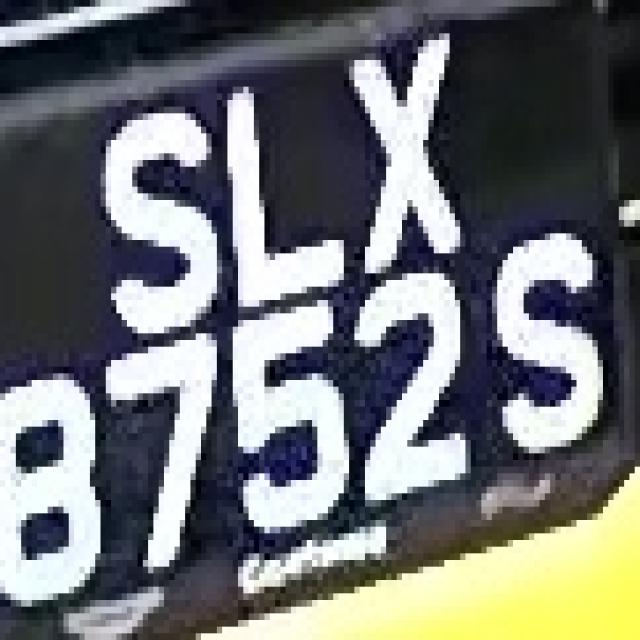2: (328, 247, 476, 533)
5: (196, 286, 365, 546)
7: (95, 340, 233, 573)
8: (0, 4, 1, 6)
L: (212, 60, 349, 307)
S: (471, 214, 619, 474), (90, 86, 227, 326)
X: (328, 20, 476, 253)
